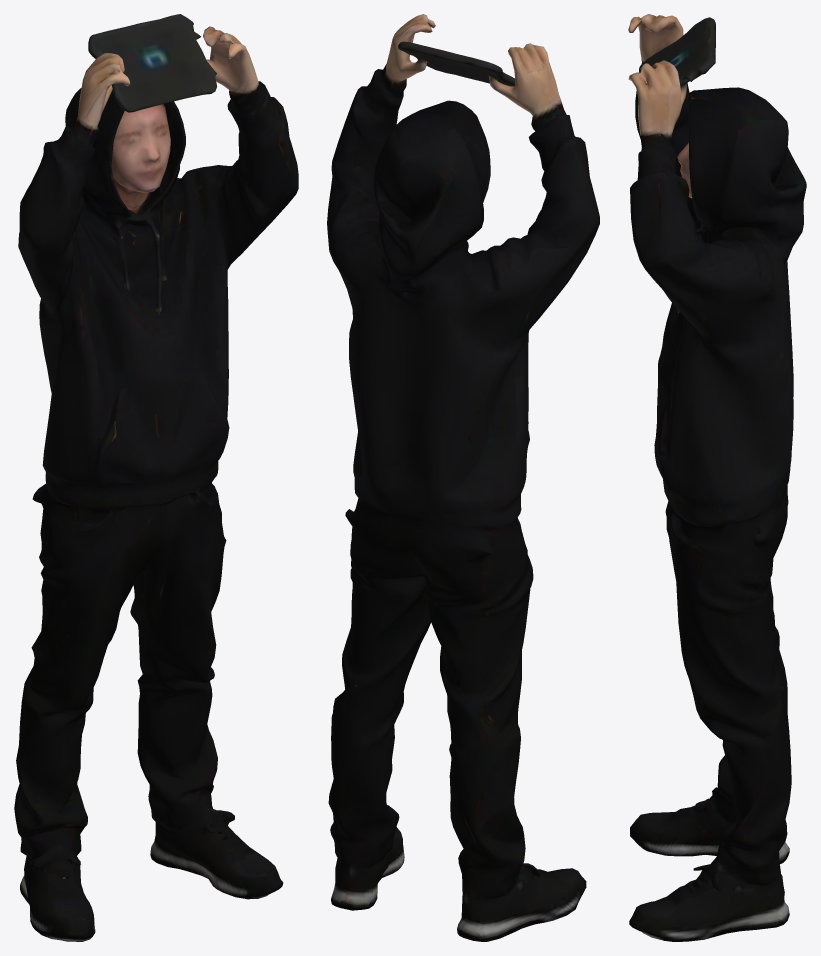
Rendered from fan-phone-s1.glb.
3 views of the same model, side by side, from view 1: azimuth 30°, elevation 25°; view 2: azimuth 150°, elevation 25°; view 3: azimuth 270°, elevation 25° (orthographic). The views are drawn at different scales.
Parts seen in each view (by area): view 1: geometry_0; view 2: geometry_0; view 3: geometry_0.
Boxes of the visible parts, bbox=[...] form: geometry_0: bbox=[14, 14, 298, 941]; geometry_0: bbox=[327, 14, 599, 941]; geometry_0: bbox=[628, 14, 806, 941].
Bounding box in the file's own units: 0.3259 × 1 × 0.1903.
1 material, 1 textured.
